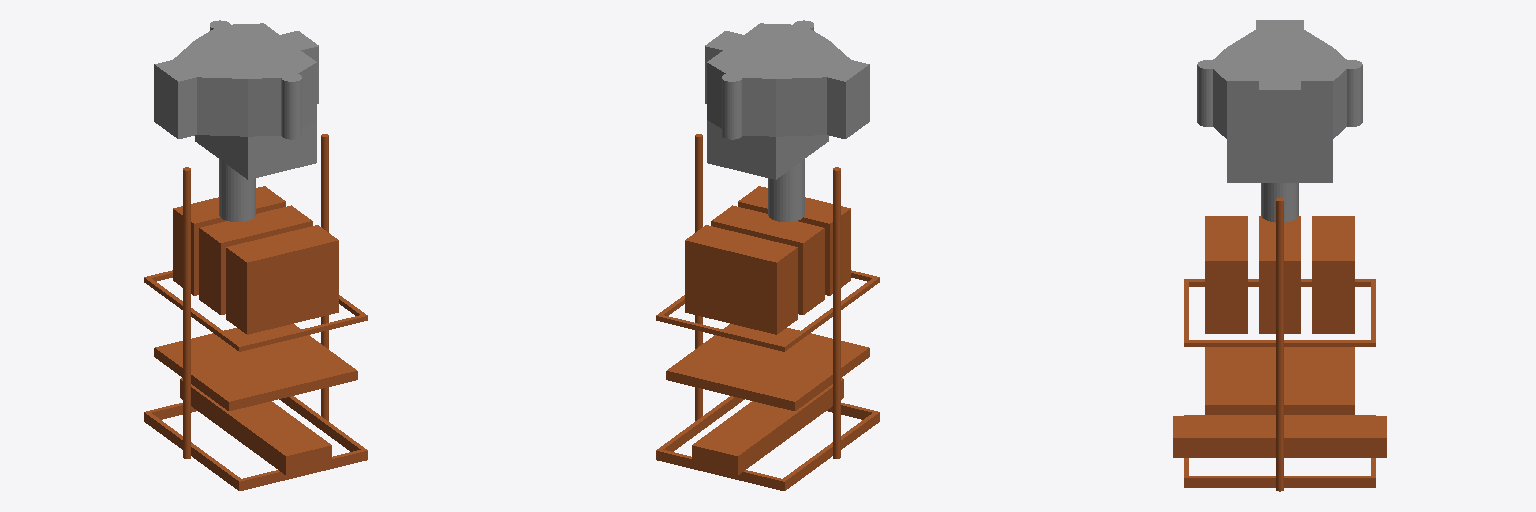
URDF robot description (flappy_sjtu):
<?xml version="1.0"?>

<robot name="flappy_sjtu">

	<link name="base_link">
		<inertial>
			<origin xyz="0.0 0.0 0.0" rpy="0.0 0.0 0.0"/>
			<mass value="14.64E-3"/>
			<inertia ixx="11.585E-6" ixy="0.0" ixz="0.0" iyy="8.889E-6" iyz="0.0" izz="3.580E-6"/>
		</inertial>
		<visual>
			<origin xyz="1.286E-3 -0.551E-3 -8.089E-3" rpy="0.0 0.0 0.0"/>
			<geometry>
				<mesh filename = "package://rviz_teleop_commander/meshes/torso.STL"/>
			</geometry>
			<material name="flappy_main">
				<color rgba="0.710 0.392 0.2 1.0"/>
			</material>
		</visual>
	</link>
  
	<link name="flapping_mechanism">
		<inertial>
			<origin xyz="-2.979E-3 0.006E-3 4.928E-3" rpy="0.0 0.0 0.0"/>
			<mass value="8.83E-3"/>
			<inertia ixx="1.256E-6" ixy="0.0" ixz="-0.086E-6" iyy="1.037E-6" iyz="0.0" izz="0.482E-6"/>
		</inertial>
		<visual>
			<origin xyz="0.0 0.0 0.0" rpy="0.0 0.0 0.0"/>
			<geometry>
				<mesh filename = "package://rviz_teleop_commander/meshes/flapping_mechanism.STL"/>
			</geometry>
			<material name="flappy_top">
				<color rgba="0.6 0.6 0.6 1.0"/>
			</material>
		</visual>
	</link>
    
  	<link name = "left_wing">
		<inertial>
			<origin xyz = "0.0024E-3 37.3242E-3 -9.8917E-3" rpy = "0 0 0"/>
			<mass value = "0.0626E-3"/>
			<inertia
				ixx = "21.4402E-9"
				iyy = "2.2204E-9"
				izz = "19.2209E-9"
				ixy = "-0.0000E-9"
				iyz = "0.1968E-9"
				ixz = "-0.0001E-9"/>
		</inertial>
		<visual>
			<origin xyz = "0 0 0" rpy = "0 0 0"/>
			<geometry>
				<mesh filename = "package://rviz_teleop_commander/meshes/Wing_Camber_70mm_C35mm_no_trailing_L.STL"/>
			</geometry>
      <material name="flappy_blue">
          <color rgba="1.0 0.949 0.875 1.0"/>
      </material>
		</visual>
	</link>

	<link name = "right_wing">
		<inertial>
			<origin xyz = "-0.0024E-3 -37.3242E-3 -9.8917E-3" rpy = "0 0 0"/>
			<mass value = "0.0626E-3"/>
			<inertia
				ixx = "21.4402E-9"
				iyy = "2.2204E-9"
				izz = "19.2209E-9"
				ixy = "-0.0000E-9"
				iyz = "-0.1968E-9"
				ixz = "0.0001E-9"/>
		</inertial>
		<visual>
			<origin xyz = "0 0 0" rpy = "0 0 0"/>
			<geometry>
				<mesh filename = "package://rviz_teleop_commander/meshes/right_wing.STL"/>
			</geometry>
			<material name="flappy_red">
          <color rgba="0.788 0.216 0.337 1.0"/>
      </material>
		</visual>
	</link>

	<link name="left_leading_edge">
		<inertial>
			<origin xyz = "-0.2837E-3 3.3023E-3 -6.3984E-3" rpy = "0 0 0"/>
			<mass value = "0.7081E-3"/>
			<inertia
				ixx = "132.8411E-9"
				iyy = "47.7258E-9"
				izz = "90.6904E-9"
				ixy = "-0.0416E-9"
				iyz = "12.5149E-9"
				ixz = "-0.4990E-9"/>
		</inertial>
		<visual>
			<origin xyz = "0 0 0" rpy = "0 0 0"/>
			<geometry>
				<mesh filename = "package://rviz_teleop_commander/meshes/left_LE.STL"/>
			</geometry>
			<material name="flappy_blue">
          <color rgba="0.0 0.0 1.0 1.0"/>
      </material>
		</visual>
	</link>

	<link name="right_leading_edge">
		<inertial>
			<origin xyz = "-0.2837E-3 -3.3023E-3 -6.3984E-3" rpy = "0 0 0"/>
			<mass value = "0.7081E-3"/>
			<inertia
				ixx = "132.8411E-9"
				iyy = "47.7258E-9"
				izz = "90.6904E-9"
				ixy = "0.0416E-9"
				iyz = "-12.5149E-9"
				ixz = "-0.4990E-9"/>
		</inertial>
		<visual>
			<origin xyz = "0 0 0" rpy = "0 0 0"/>
			<geometry>
				<mesh filename = "package://rviz_teleop_commander/meshes/right_LE.STL"/>
			</geometry>
			<material name="flappy_red">
          <color rgba="1.0 0.0 0.0 1.0"/>
      </material>
		</visual>
	</link>
    
	<joint name="servo_control" type="revolute">
		<origin xyz="1.286E-3 -0.551E-3 41.911E-3" rpy="0.0 0.0 0.0"/>
		<parent link="base_link"/>
		<child link="flapping_mechanism"/>
		<axis xyz="0.0 1.0 0.0"/>
		<limit lower="-0.5" upper="0.5" effort="0.02" velocity="400.0"/>
	</joint>
    
	<joint name = "left_stroke" type = "revolute">
		<parent link = "flapping_mechanism"/>
		<child link = "left_leading_edge"/>
		<origin xyz = "0 13.95E-3 18.9913E-3" rpy = "0 0 0"/>
		<axis xyz = "0 0 1"/>
		<dynamics friction = "1E-9" damping = "8E-9"/>
		<limit lower = "-1.63" upper = "1.63" effort = "0.02" velocity = "400"/>
	</joint>

	<joint name = "left_rotate" type = "revolute">
		<parent link = "left_leading_edge"/>
		<child link = "left_wing"/>
		<origin xyz = "0 0 0" rpy = "0 0 0"/>
		<axis xyz = "0 1 0"/>
		<dynamics friction = "1E-8" damping = "1E-9"/>
		<limit lower = "-0.7854" upper = "0.7854" effort = "0.02" velocity = "2000"/>
	</joint>

	<joint name = "right_stroke" type = "revolute">
		<parent link = "flapping_mechanism"/>
		<child link = "right_leading_edge"/>
		<origin xyz = "0 -13.95E-3 18.9913E-3" rpy = "0 0 0"/>
		<axis xyz = "0 0 -1"/>
		<dynamics friction = "1E-9" damping = "8E-9"/>
		<limit lower = "-1.63" upper = "1.63" effort = "0.02" velocity = "400"/>
	</joint>

	<joint name = "right_rotate" type = "revolute">
		<parent link = "right_leading_edge"/>
		<child link = "right_wing"/>
		<origin xyz = "0 0 0" rpy = "0 0 0"/>
		<axis xyz = "0 1 0"/>
		<dynamics friction = "1E-8" damping = "1E-9"/>
		<limit lower = "-0.7854" upper = "0.7854" effort = "0.02" velocity = "2000"/>
	</joint>

</robot>

--- What the picture shows (computed from the rendered views, not written in the file) ---
The picture shows the robot from 3 angles, left to right: view 1: azimuth 30°, elevation 25°; view 2: azimuth 150°, elevation 25°; view 3: azimuth 270°, elevation 25°; orthographic projection.
Robot: flappy_sjtu — 6 links, 5 joints (5 revolute); root link base_link; default pose: every joint at zero.
Visible links, largest first — view 1: base_link, flapping_mechanism; view 2: base_link, flapping_mechanism; view 3: base_link, flapping_mechanism.
Boxes of the visible links, bbox=[...] form: base_link: bbox=[144, 134, 367, 490]; flapping_mechanism: bbox=[154, 20, 318, 221]; base_link: bbox=[656, 134, 879, 490]; flapping_mechanism: bbox=[705, 20, 869, 221]; base_link: bbox=[1173, 198, 1386, 491]; flapping_mechanism: bbox=[1197, 20, 1362, 222].
Size in the robot's own frame: 0.0353 by 0.04 by 0.081 metres.
2 mesh visuals loaded from 6 distinct referenced files (2 binary STL); not drawn: 4 (reference not matched to a file when rendering).